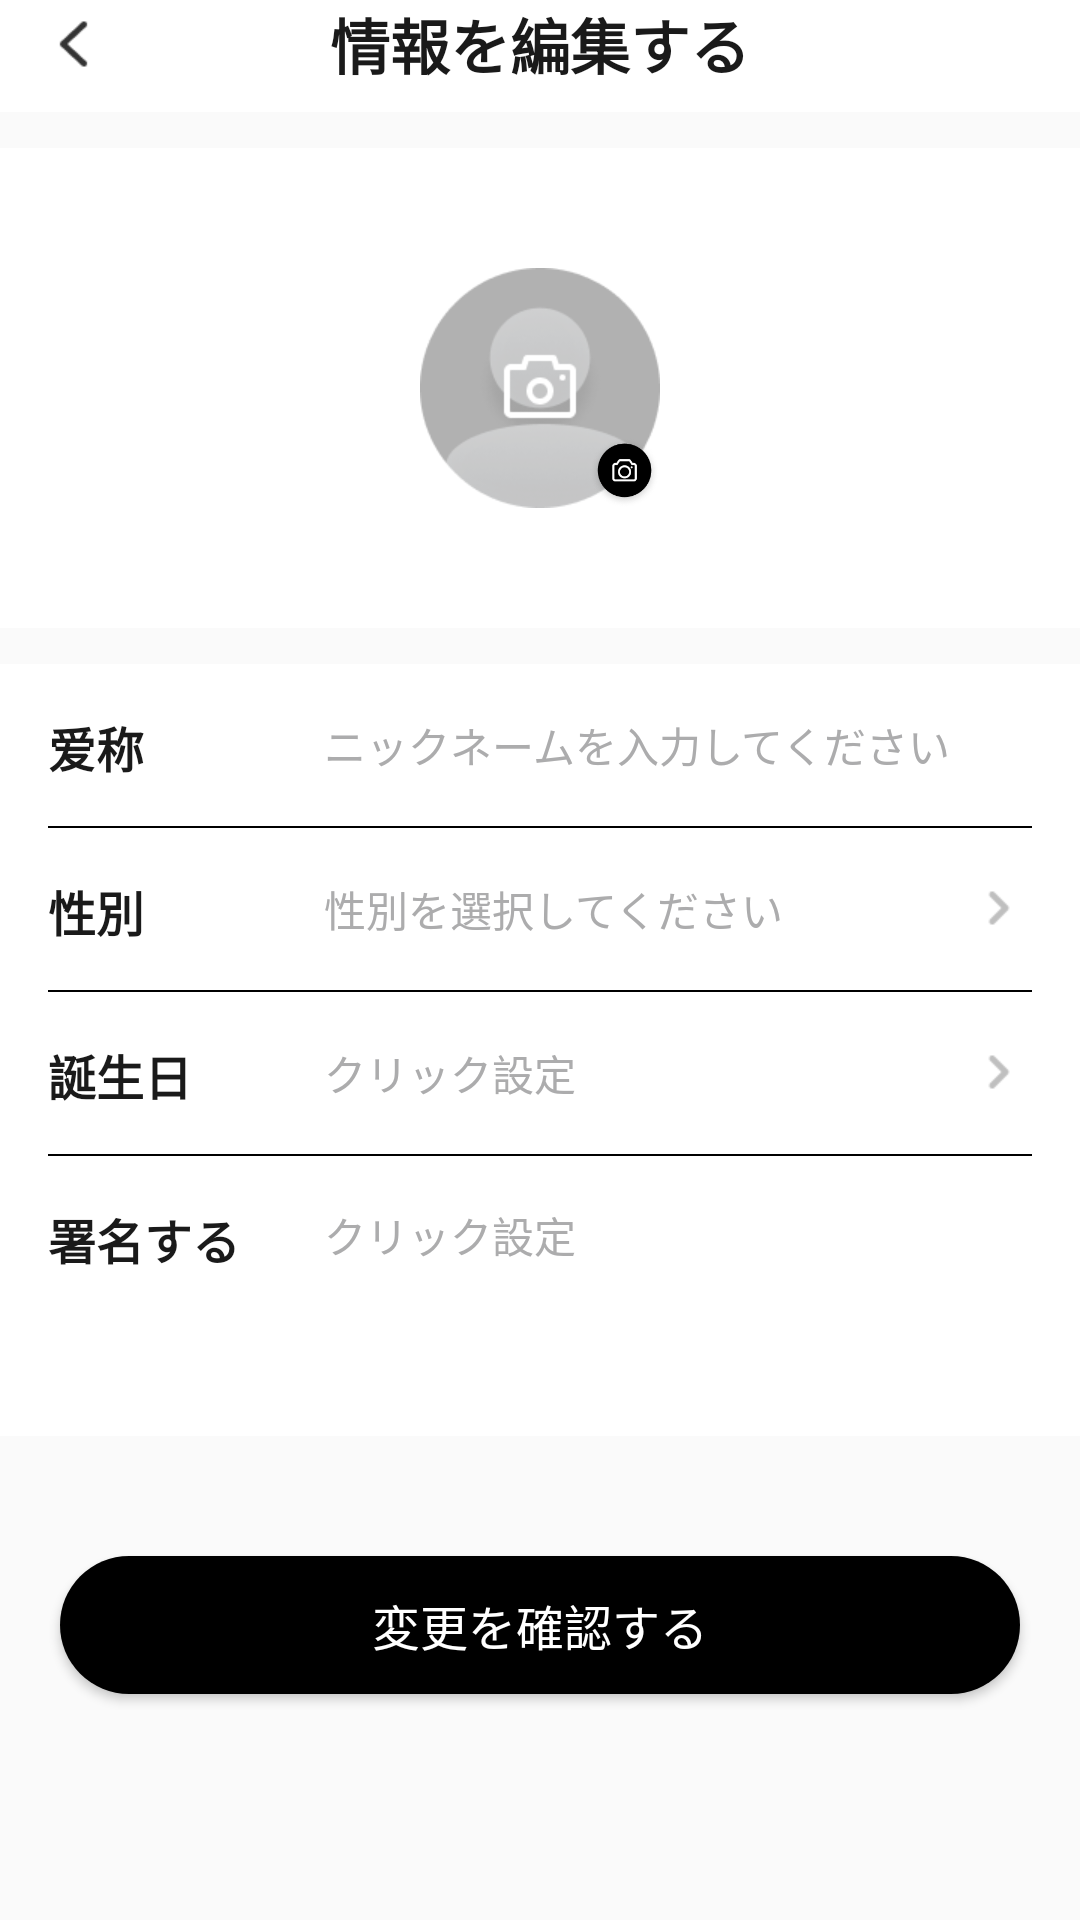

Screen size 1080x1920. Icon name, then its center in pixels as (x,y):
back: (73,44)
user camera: (624,472)
